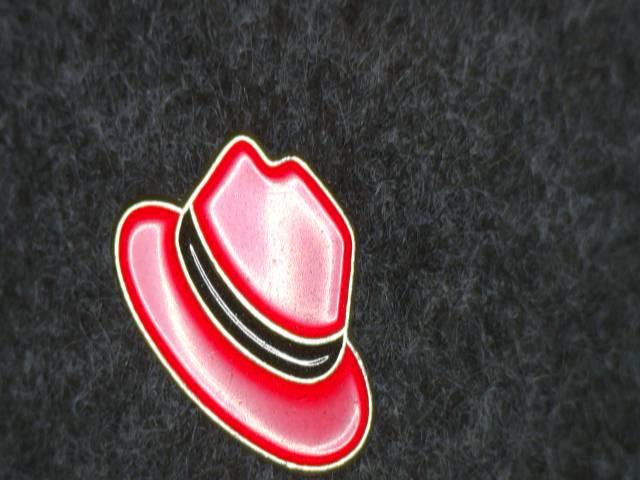Red-Hat: (90, 118, 463, 480)
